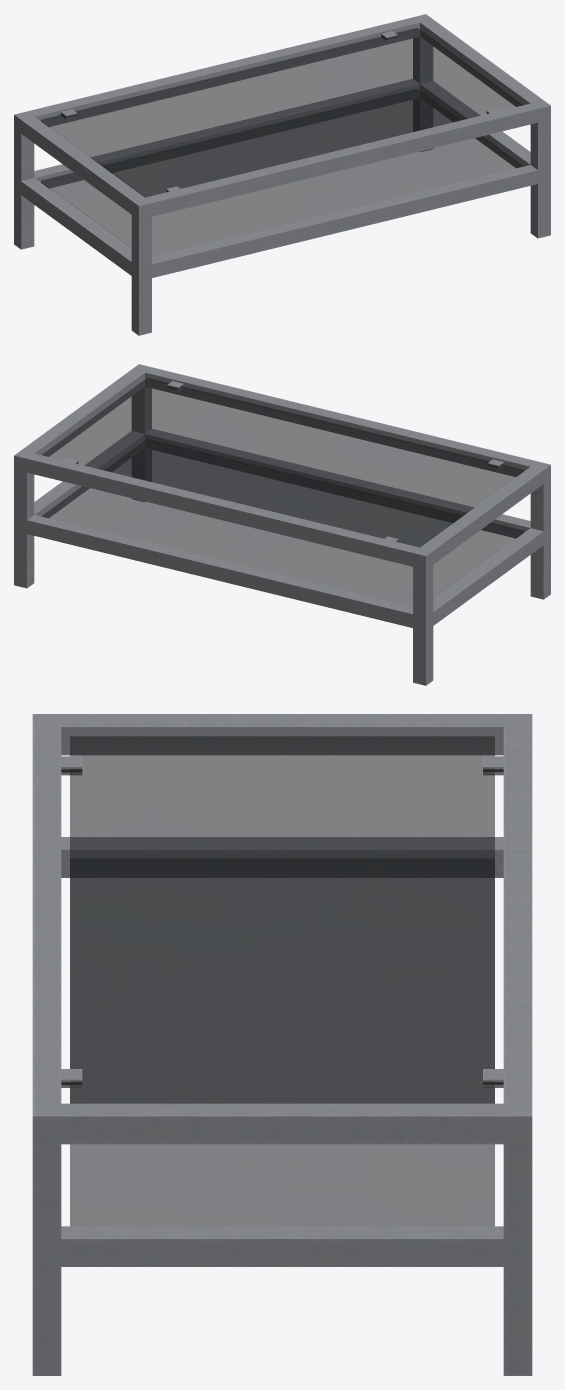
The model's file is SM_Coffee_Table_03.glb.
3 renders of one model, top to bottom at view 1: azimuth 30°, elevation 25°; view 2: azimuth 150°, elevation 25°; view 3: azimuth 270°, elevation 25°, orthographic. The views are drawn at different scales.
Visible parts, largest first — view 1: SM_Coffee_Table_03; view 2: SM_Coffee_Table_03; view 3: SM_Coffee_Table_03.
Part boxes in pixels (bbox=[...]): SM_Coffee_Table_03: bbox=[14, 14, 550, 335]; SM_Coffee_Table_03: bbox=[14, 364, 550, 685]; SM_Coffee_Table_03: bbox=[32, 714, 532, 1375].
Bounding box in the file's own units: 1.66 × 0.4992 × 0.8714.
2 materials, 2 textured.
